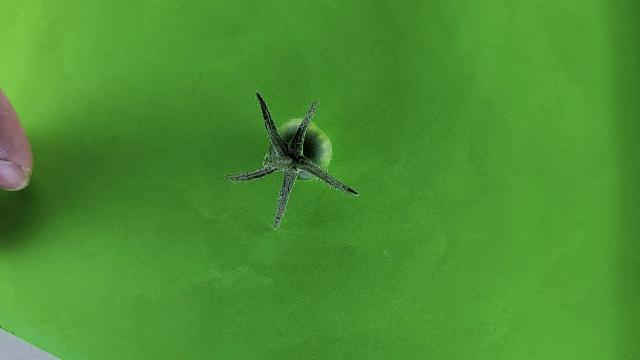Fruit Maturation: (271, 117, 334, 181)
